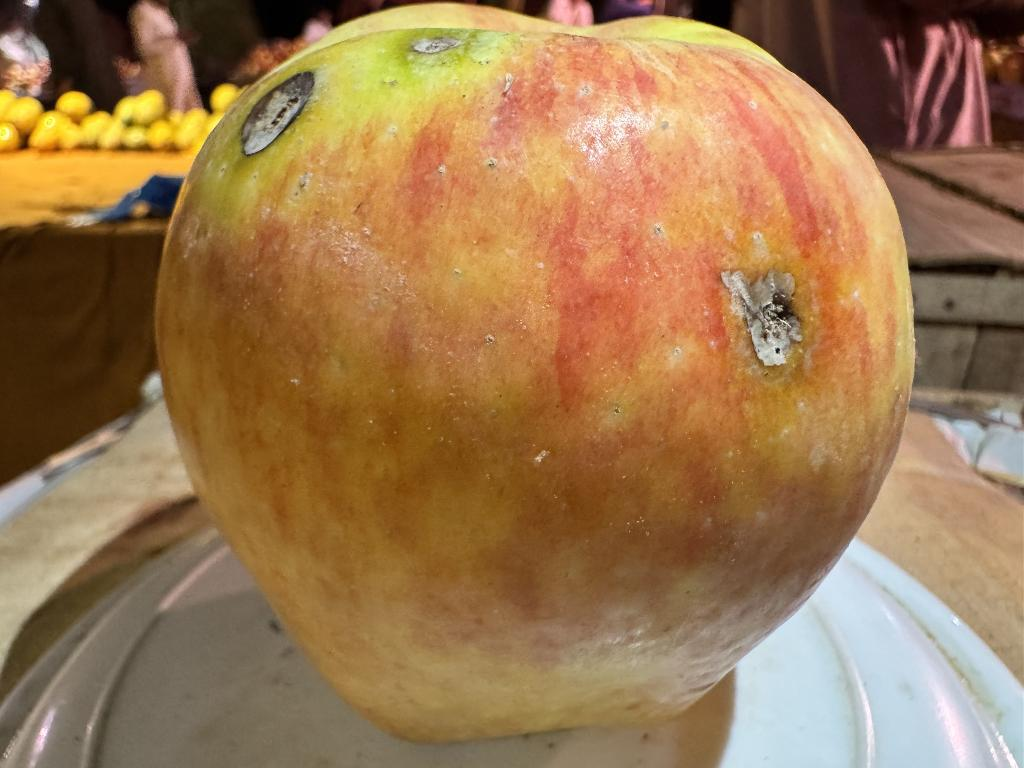apple: (155, 3, 915, 741)
surface_damage: (721, 270, 802, 366), (241, 71, 314, 155), (412, 36, 461, 54)
